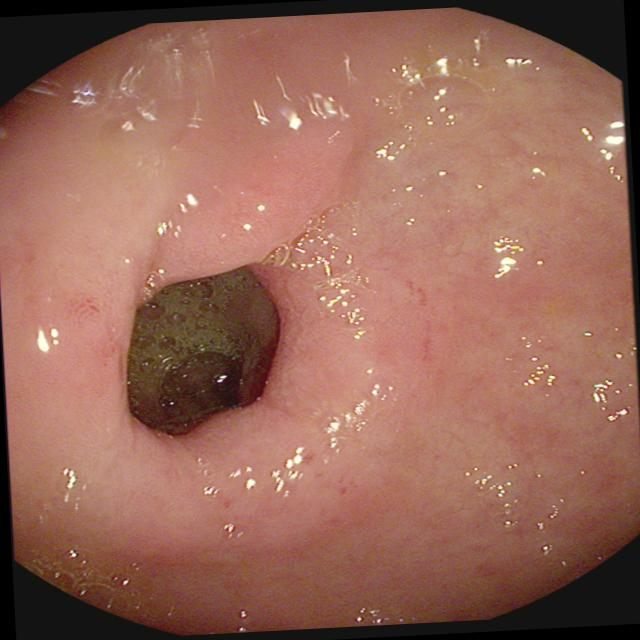normal-pylorus: (0, 4, 458, 566)
